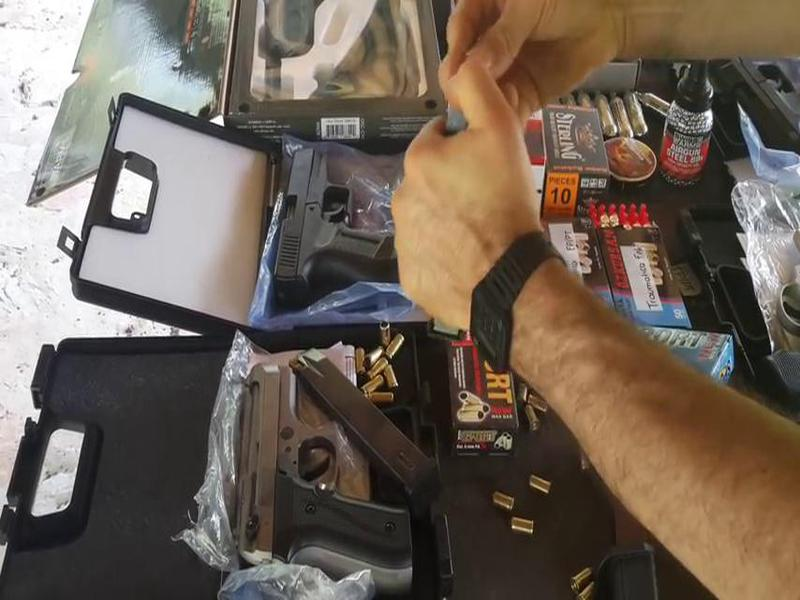Pistola: (230, 334, 430, 600), (276, 134, 407, 306)
